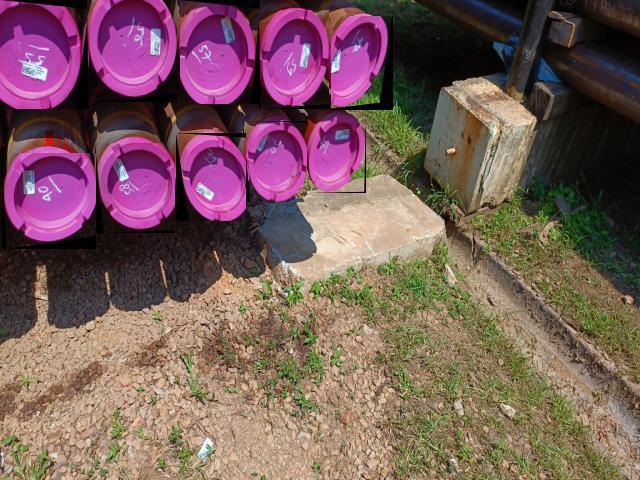pipe: (0, 0, 89, 109), (87, 0, 177, 102), (2, 153, 96, 249), (180, 0, 260, 104), (95, 144, 175, 234), (260, 10, 330, 109), (176, 133, 246, 221), (331, 16, 393, 110), (244, 121, 308, 202), (309, 114, 366, 193)
